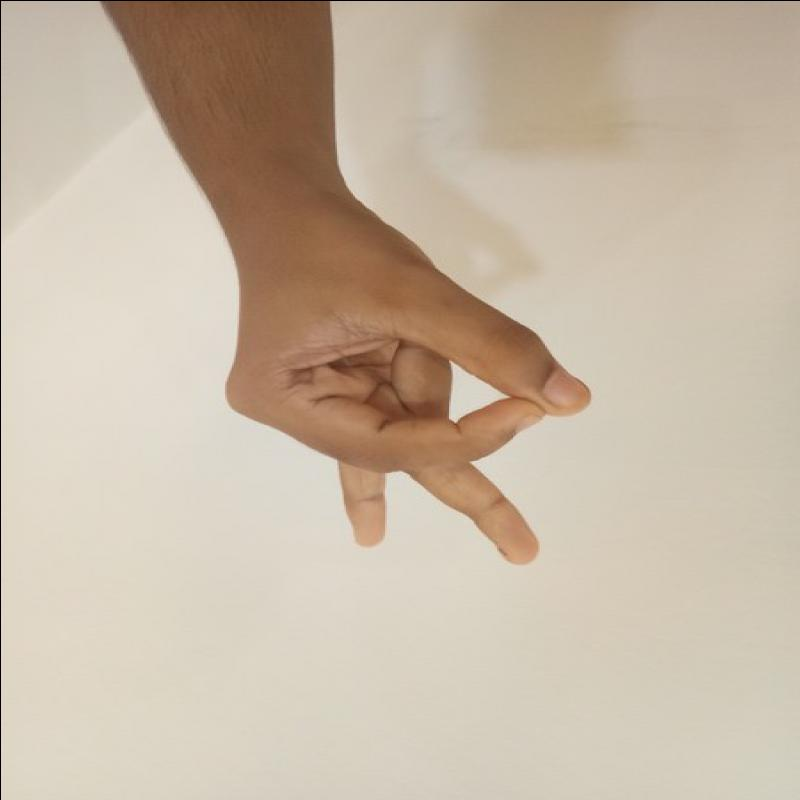Katakam: (199, 186, 616, 597)
